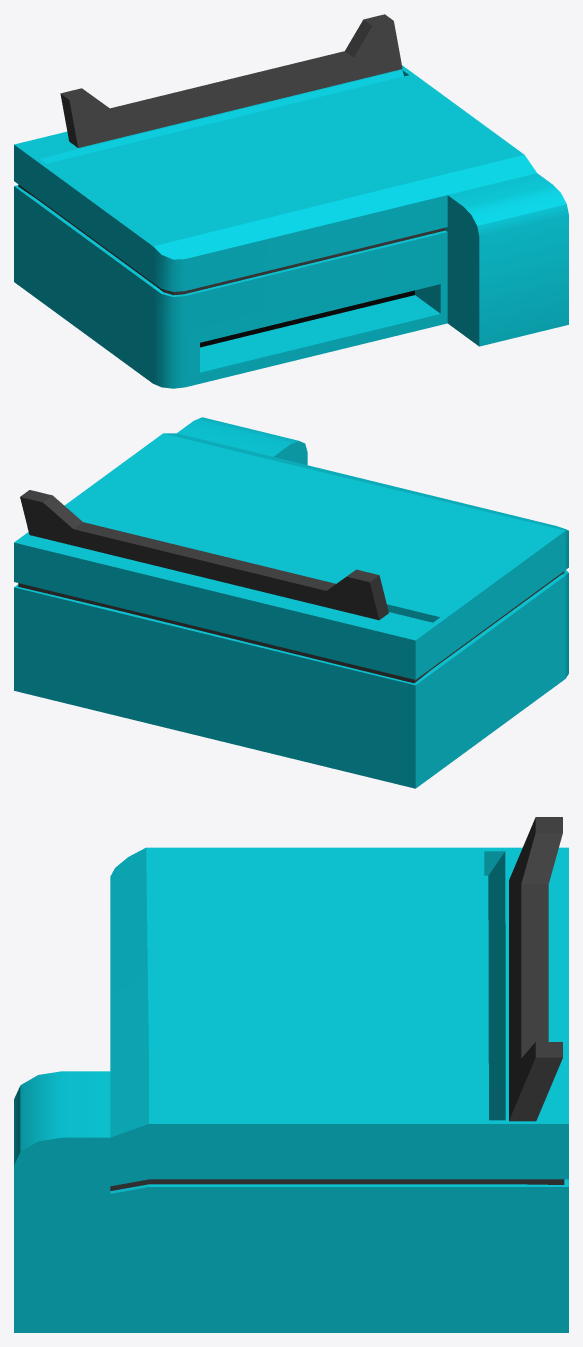
Rendered from Printer.fbx.
3 views of the same model, one above another, from view 1: azimuth 30°, elevation 25°; view 2: azimuth 150°, elevation 25°; view 3: azimuth 270°, elevation 25° (orthographic). The views are drawn at different scales.
Parts seen in each view (by area): view 1: printer; view 2: printer; view 3: printer.
Part boxes in pixels (<box>): printer: <box>14,14,568,388</box>; printer: <box>14,417,568,788</box>; printer: <box>14,817,568,1332</box>.
Size of the model in its own units: 88.38 by 40.63 by 75.03.
